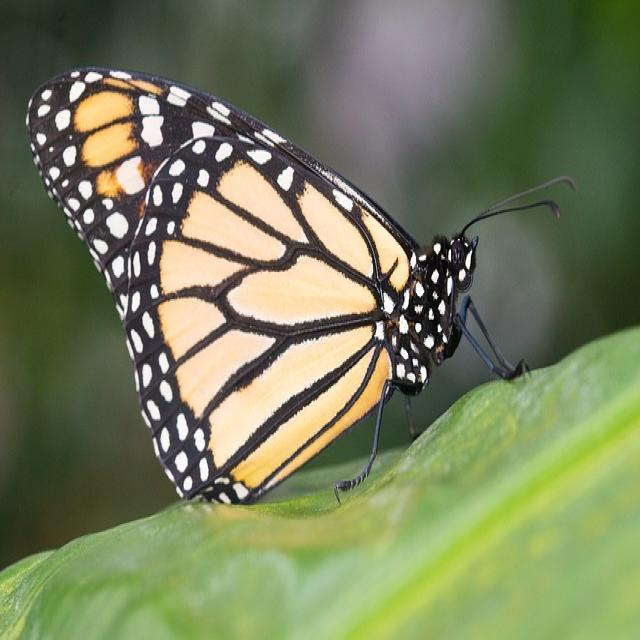butterfly: (24, 68, 477, 506)
